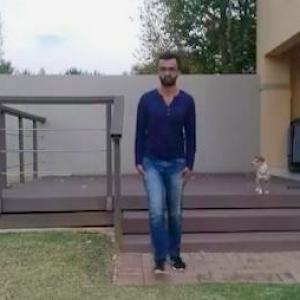follow: (136, 35, 210, 299)
